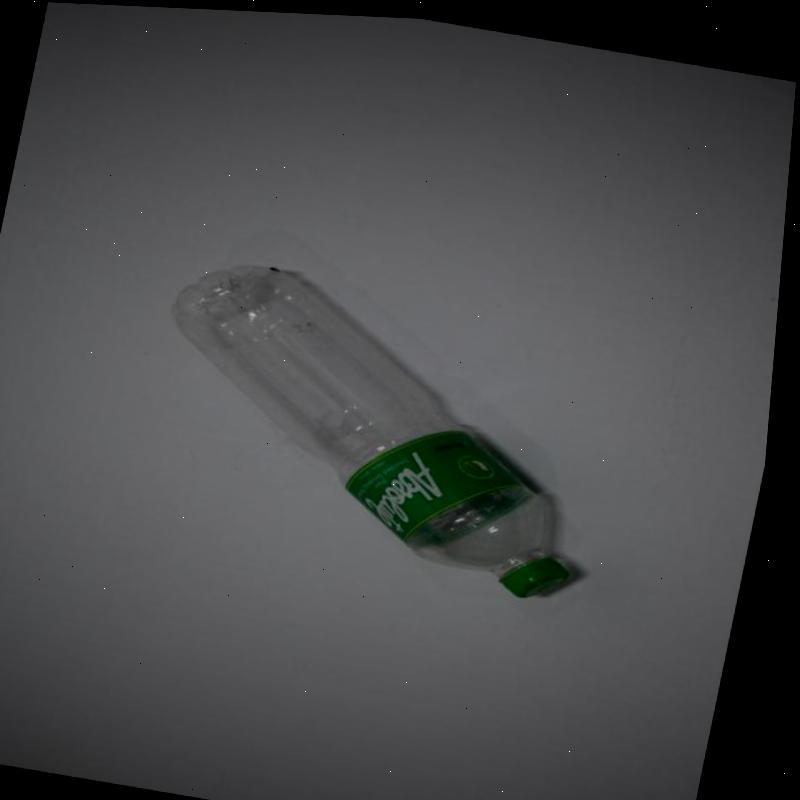botella: (133, 243, 627, 599)
